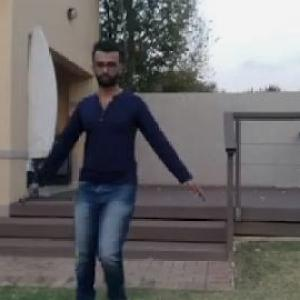land: (40, 59, 192, 299)
